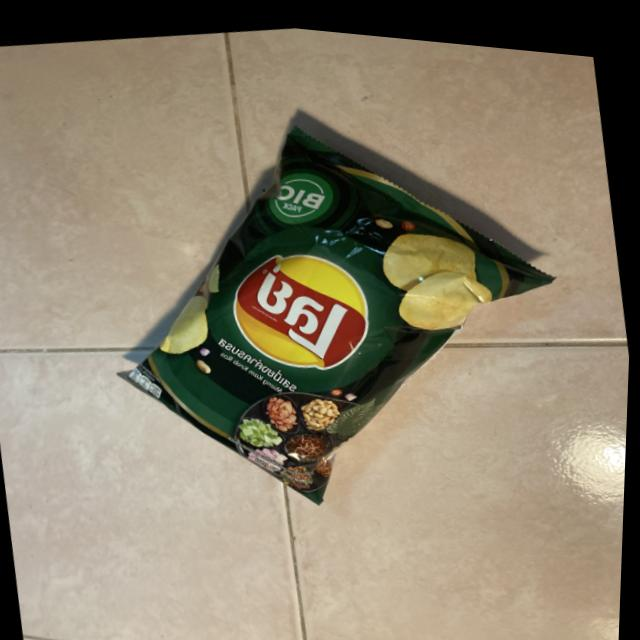Laygreen: (76, 64, 595, 559)
